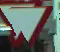Give way: (1, 1, 53, 51)
